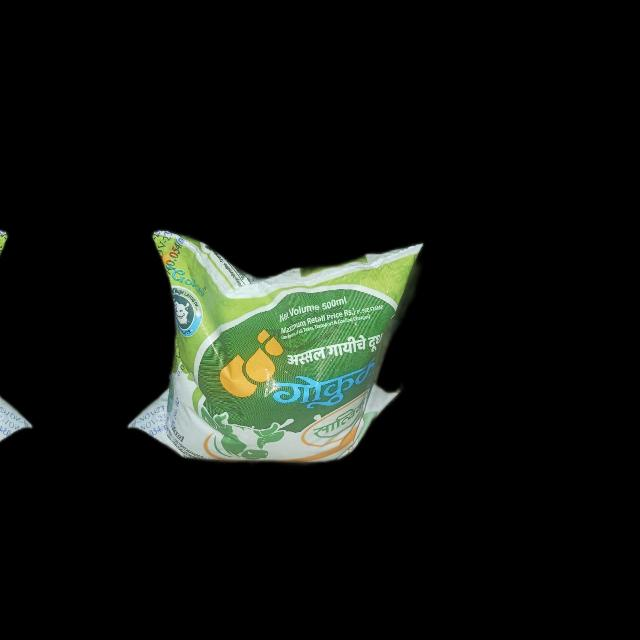Gokul Milk 500ml: (138, 220, 414, 466)
